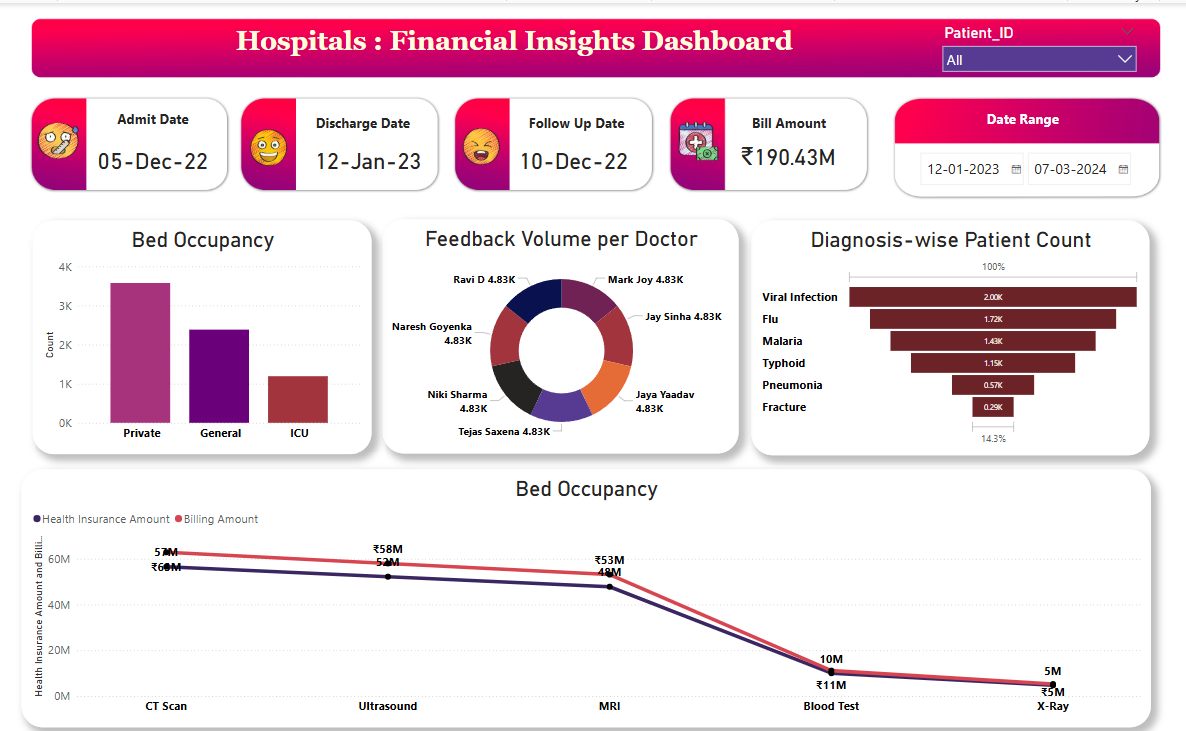

What the dashboard file says about the page in this screenshot:
{"tool":"powerbi","page":{"name":"Page 2","canvas":[1680,1050],"ordinal":0},"visuals":[{"type":"textbox","box":[302.6,26.4,844.5,75.7],"z":0},{"type":"image","box":[2636.7,100,623.3,150],"z":1000},{"type":"slicer","fields":{"Values":["Sheet1.Patient_ID"]},"box":[2400,373.3,793.3,420],"z":2000},{"type":"card","fields":{"Values":["Sheet1.Admit_Date"]},"box":[437.6,198.8,162.9,42.8],"z":3000},{"type":"card","fields":{"Values":["Sheet1.Discharge_Date"]},"box":[129.8,198.8,172.6,42.8],"z":4000},{"type":"card","fields":{"Values":["Sheet1.Followup Date"]},"box":[724.3,198.6,167.1,42.9],"z":5000},{"type":"textbox","box":[152.9,145.7,127.1,57.1],"z":6000},{"type":"textbox","box":[437.1,151.4,151.4,37.1],"z":7000},{"type":"textbox","box":[732.9,151.4,158.6,37.1],"z":8000},{"type":"textbox","box":[1035.7,151.4,151.4,37.1],"z":9000},{"type":"card","fields":{"Values":["Sheet1.Billing Amount"]},"box":[1031.4,194.3,158.6,42.9],"z":10000},{"type":"image","box":[50,157.1,68.6,74.3],"z":11000},{"type":"image","box":[348.6,172.9,62.9,62.9],"z":12000},{"type":"image","box":[640,171.4,77.1,62.9],"z":13000},{"type":"image","box":[951.4,158.6,65.7,71.4],"z":14000},{"type":"columnChart","title":"Bed Occupancy","fields":{"Category":["Sheet1.Bed_Occupancy"],"Y":["Sheet1.Bed_Occupancy"]},"box":[47.1,305.7,477.1,328.6],"z":15000},{"type":"donutChart","title":"Feedback Volume per Doctor","fields":{"Category":["Sheet1.Doctor"],"Y":["Sheet1.Feedback"]},"box":[540.2,305.2,501,329.5],"z":16000},{"type":"funnel","title":"Diagnosis-wise Patient Count","fields":{"Category":["Sheet1.Diagnosis"],"Y":["Sheet1.Diagnosis"]},"box":[1060,305.7,560,330],"z":17000},{"type":"lineChart","title":"Bed Occupancy","fields":{"Y":["Sheet1.Health Insurance Amount","Sheet1.Billing Amount"],"Category":["Sheet1.Test"]},"box":[31.1,656.3,1589.5,363.3],"z":18000},{"type":"slicer","fields":{"Values":["Sheet1.Admit_Date"]},"box":[1284.3,201.2,360.6,68.9],"z":19000},{"type":"slicer","fields":{"Values":["Sheet1.Patient_ID"]},"box":[1317.1,24.3,292.9,82.9],"z":20000},{"type":"textbox","box":[1365.7,145.7,151.4,37.1],"z":21000}]}

Visuals, with their boxes in screenshot pixels (x1, y1, x2, y2), scaled from the page's 1680x1050 canvas onto the 1186x731 screenshot:
textbox: box=[214, 18, 810, 71]
card - Sheet1.Admit_Date: box=[309, 138, 424, 168]
card - Sheet1.Discharge_Date: box=[92, 138, 213, 168]
card - Sheet1.Followup Date: box=[511, 138, 629, 168]
textbox: box=[108, 101, 198, 141]
textbox: box=[309, 105, 415, 131]
textbox: box=[517, 105, 629, 131]
textbox: box=[731, 105, 838, 131]
card - Sheet1.Billing Amount: box=[728, 135, 840, 165]
image: box=[35, 109, 84, 161]
image: box=[246, 120, 290, 164]
image: box=[452, 119, 506, 163]
image: box=[672, 110, 718, 160]
"Bed Occupancy" columnChart: box=[33, 213, 370, 442]
"Feedback Volume per Doctor" donutChart: box=[381, 212, 735, 442]
"Diagnosis-wise Patient Count" funnel: box=[748, 213, 1144, 443]
"Bed Occupancy" lineChart: box=[22, 457, 1144, 710]
slicer - Sheet1.Admit_Date: box=[907, 140, 1161, 188]
slicer - Sheet1.Patient_ID: box=[930, 17, 1137, 75]
textbox: box=[964, 101, 1071, 127]
